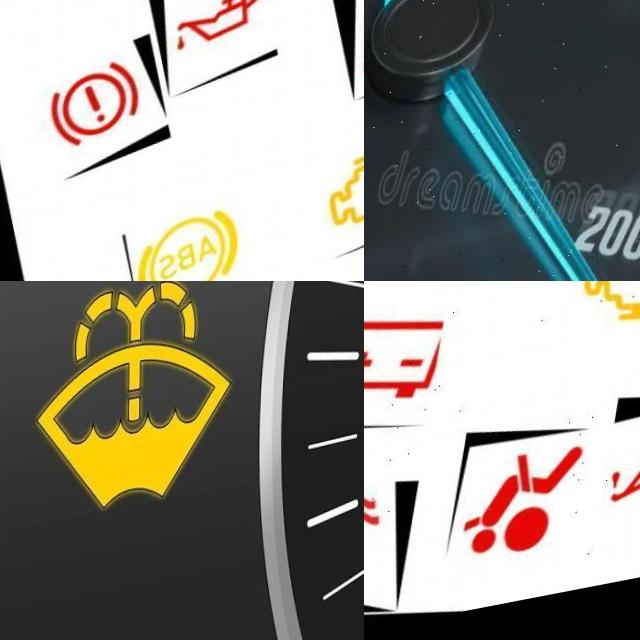Washer Fluid: (36, 282, 234, 536)
